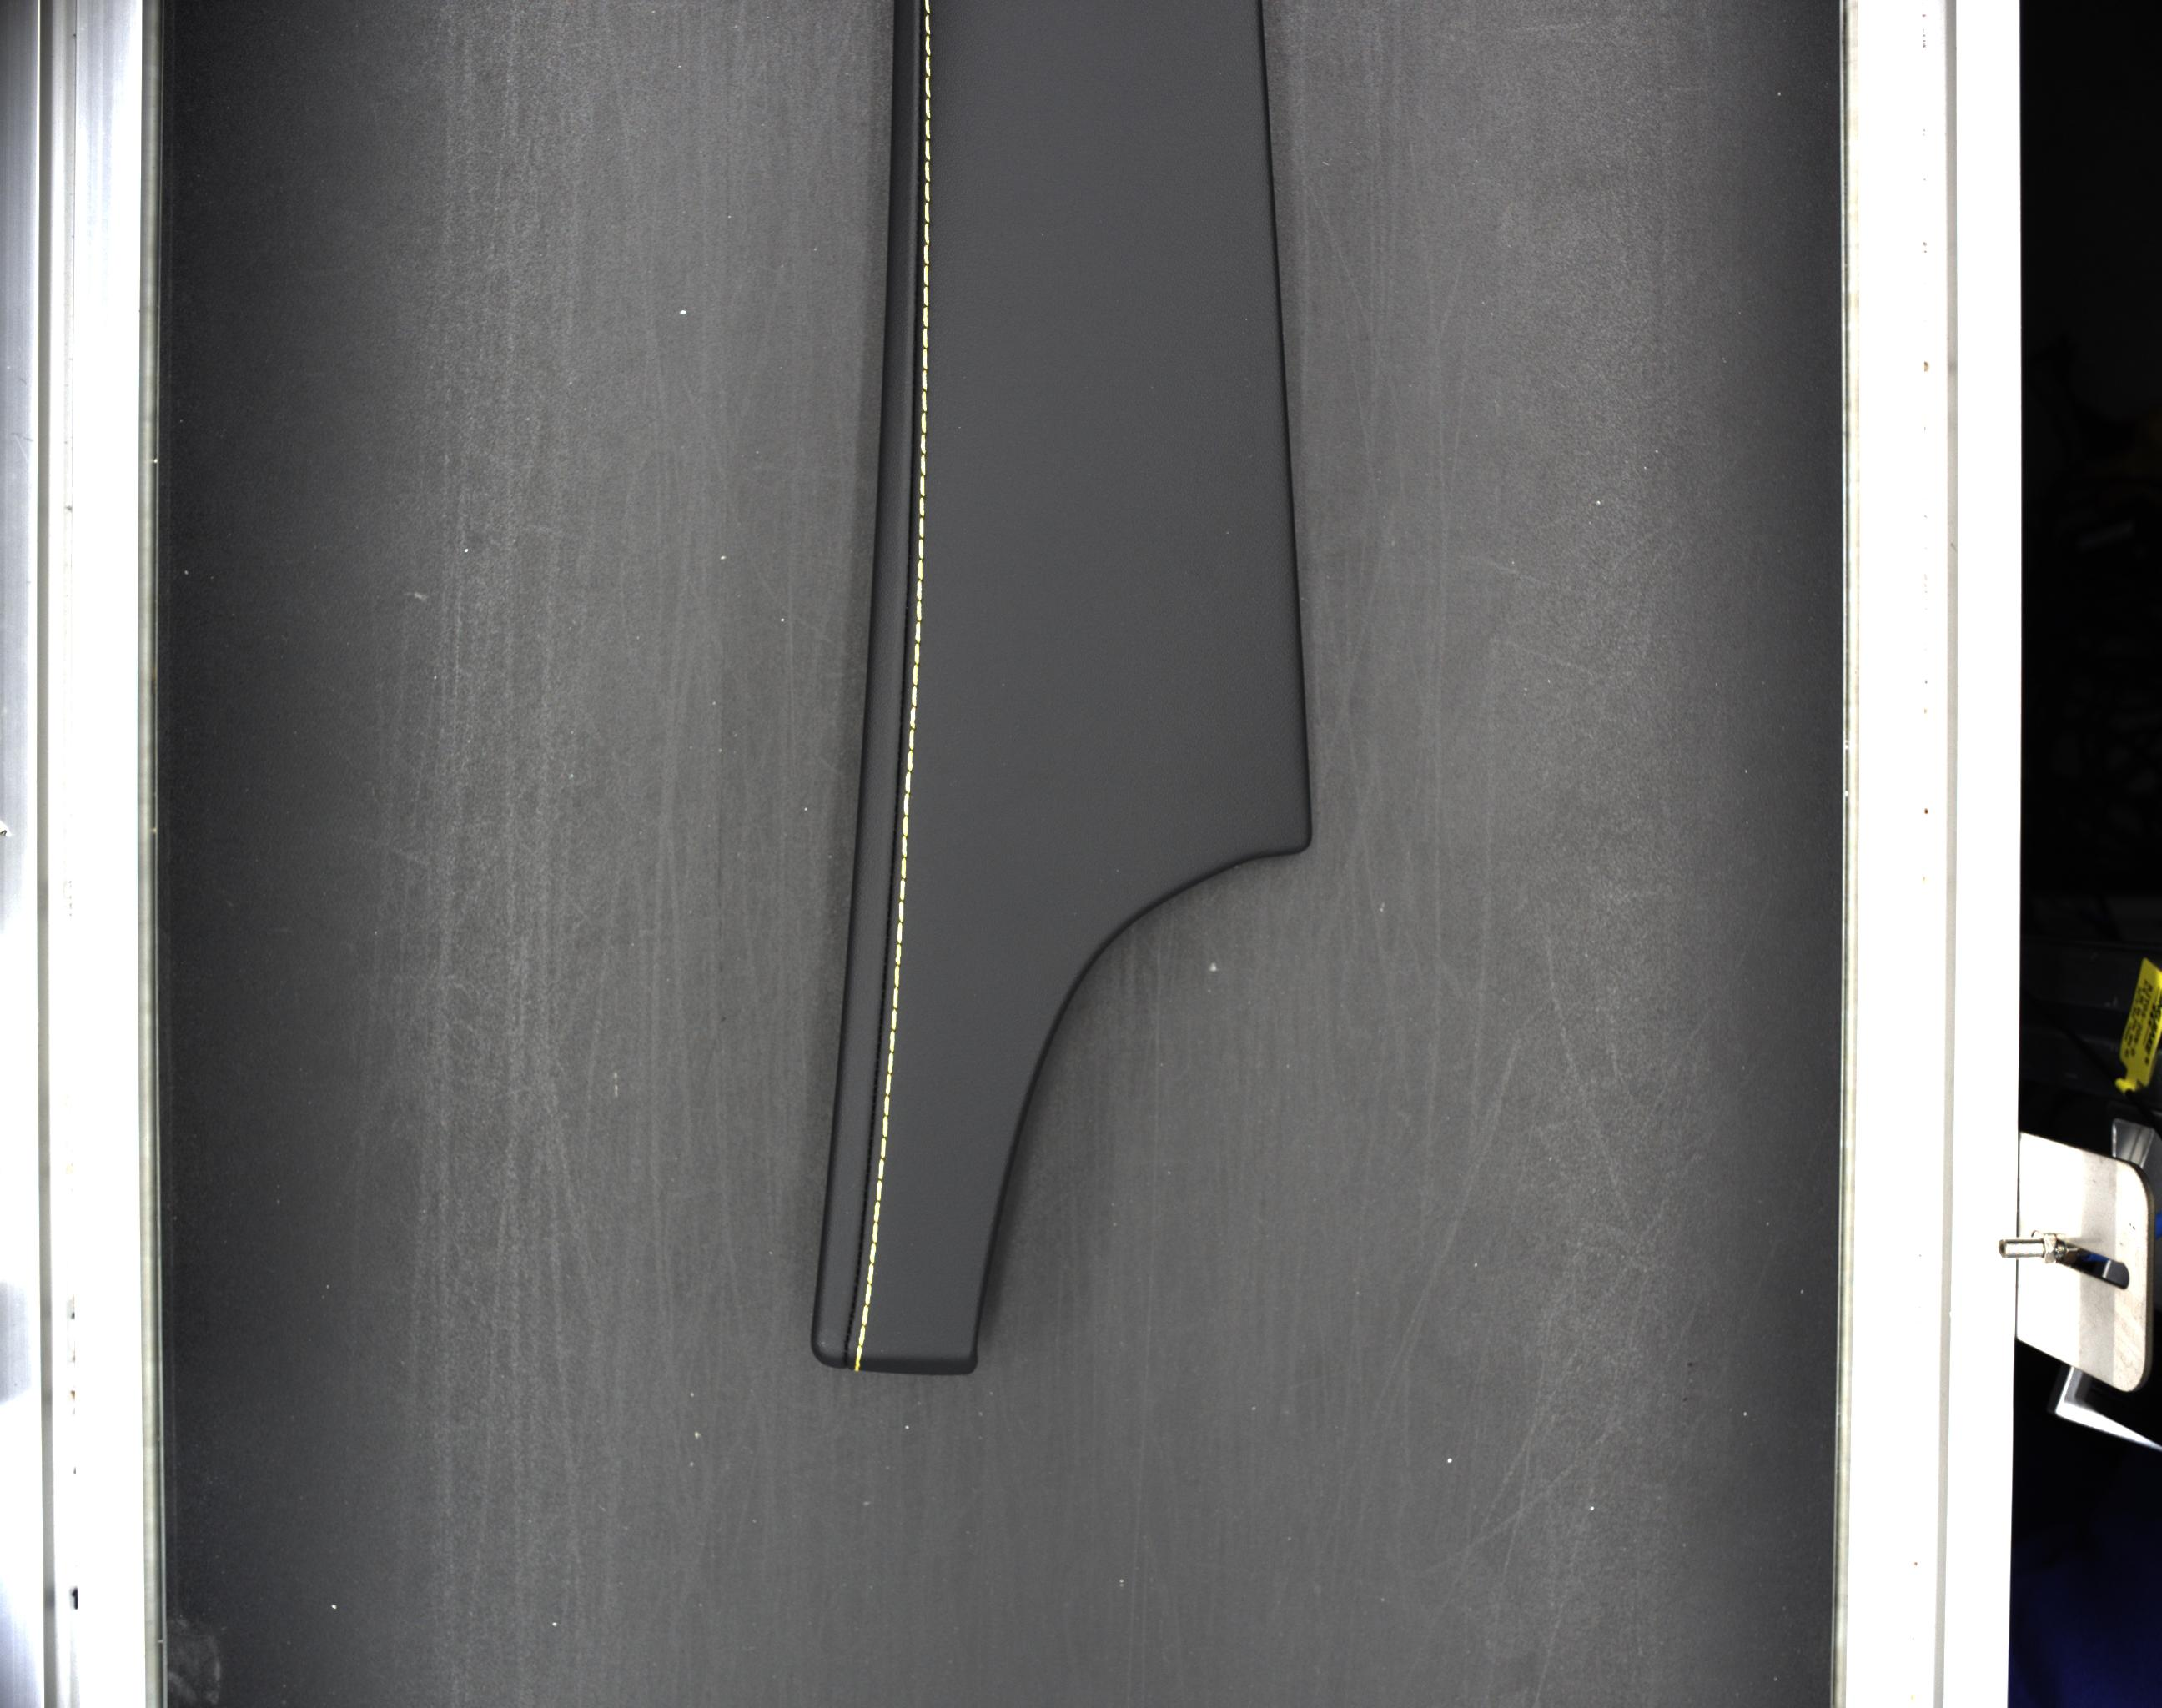vline: (902, 792, 911, 816), (863, 1283, 874, 1303), (921, 244, 930, 267), (909, 707, 918, 730), (918, 455, 927, 476), (918, 476, 927, 497), (916, 537, 925, 558), (913, 644, 921, 665), (907, 728, 916, 750), (904, 771, 913, 792), (886, 1051, 895, 1073), (881, 1116, 890, 1137), (870, 1220, 879, 1241), (898, 878, 906, 902), (890, 1008, 897, 1032), (920, 349, 928, 369), (920, 370, 928, 390), (920, 391, 928, 411), (918, 497, 927, 516), (914, 600, 923, 620), (898, 858, 907, 878), (897, 902, 906, 922), (913, 620, 920, 642), (893, 965, 900, 988), (877, 1157, 884, 1180), (856, 1325, 865, 1343), (923, 14, 930, 35), (923, 202, 930, 223), (921, 286, 928, 307), (920, 413, 927, 434), (916, 579, 923, 600), (911, 686, 918, 707), (895, 922, 902, 943), (888, 1030, 895, 1051), (884, 1073, 891, 1094), (874, 1202, 881, 1224), (869, 1241, 876, 1262), (867, 1262, 874, 1283), (923, 77, 930, 97), (923, 98, 930, 118), (923, 140, 930, 160), (923, 161, 930, 181), (921, 265, 928, 284), (921, 307, 928, 327), (921, 328, 928, 348), (918, 518, 925, 537), (916, 560, 923, 579), (911, 665, 918, 685), (906, 751, 913, 771), (902, 816, 909, 836), (900, 837, 907, 857), (895, 944, 902, 964), (891, 988, 898, 1008), (883, 1095, 890, 1115), (879, 1137, 886, 1157), (923, 184, 930, 202), (920, 435, 927, 453), (862, 1306, 869, 1324), (925, 33, 930, 56), (923, 223, 928, 246), (876, 1180, 881, 1202), (855, 1346, 860, 1369), (925, 56, 930, 77), (925, 119, 930, 140), (923, 0, 930, 12)
